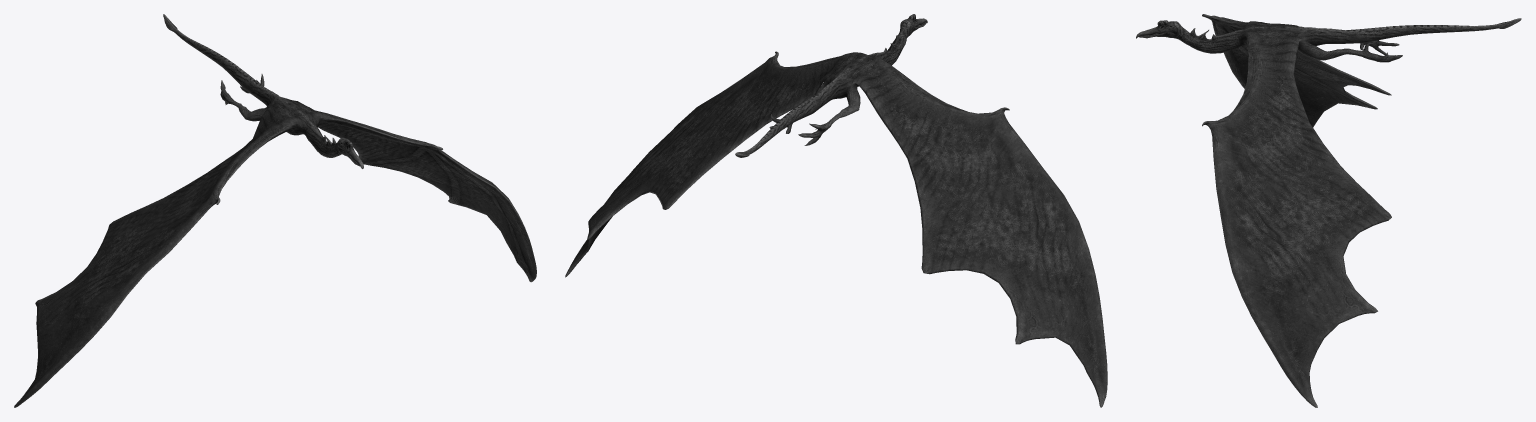
The model's file is Fellbeast_Animate_Flying_32.obj.
3 views of the same model, side by side, from view 1: azimuth 30°, elevation 25°; view 2: azimuth 150°, elevation 25°; view 3: azimuth 270°, elevation 25° (orthographic). The views are drawn at different scales.
Visible parts, largest first — view 1: Fellbeast; view 2: Fellbeast; view 3: Fellbeast.
Part boxes in pixels (x1,y1,x2,y2): Fellbeast: (14, 14, 536, 407); Fellbeast: (565, 14, 1107, 407); Fellbeast: (1136, 14, 1521, 407).
Bounding box in the file's own units: 6.84 × 3.29 × 4.4.
